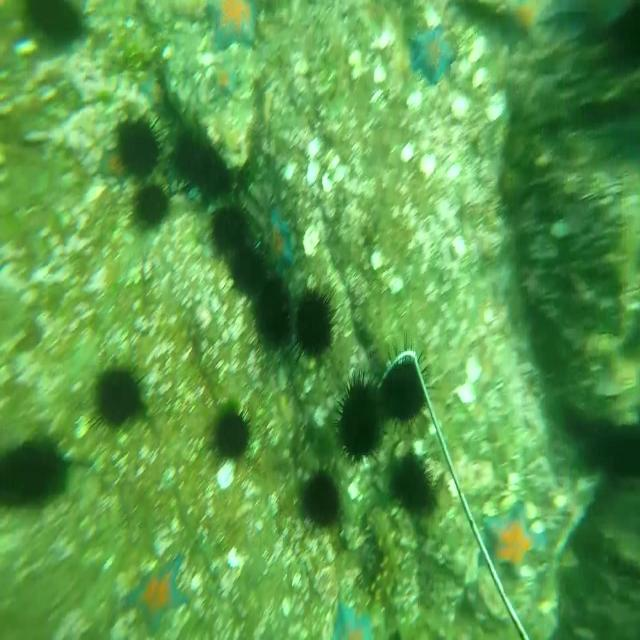echinus: (0, 436, 72, 514), (378, 330, 433, 430), (334, 369, 386, 467), (84, 363, 146, 438), (292, 282, 341, 362), (113, 111, 166, 184), (389, 447, 438, 518), (300, 461, 344, 538), (209, 398, 256, 469), (23, 0, 89, 49), (254, 274, 294, 351), (210, 200, 247, 259), (232, 238, 268, 296), (132, 177, 171, 230), (198, 145, 231, 202), (173, 127, 204, 185)
holothurian: (363, 499, 403, 612)
starfish: (122, 550, 194, 640), (481, 492, 547, 585), (201, 2, 263, 57), (406, 24, 459, 87), (263, 204, 299, 278), (330, 599, 376, 640), (209, 58, 242, 104)
